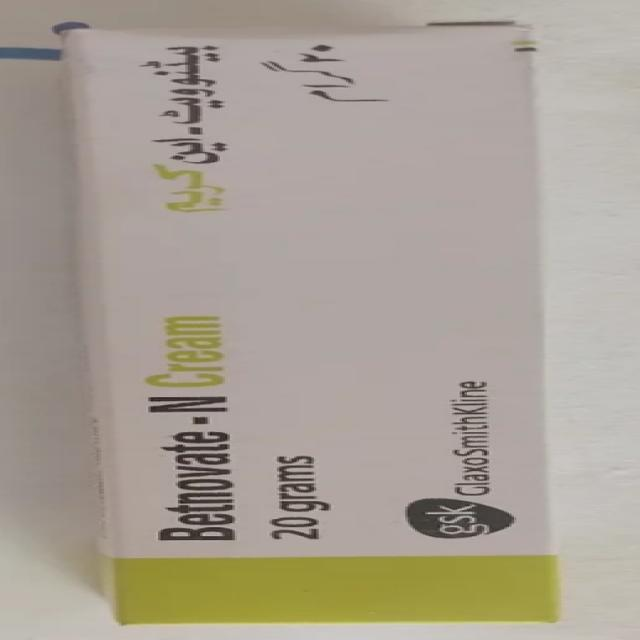drug-name: (128, 394, 262, 548)
